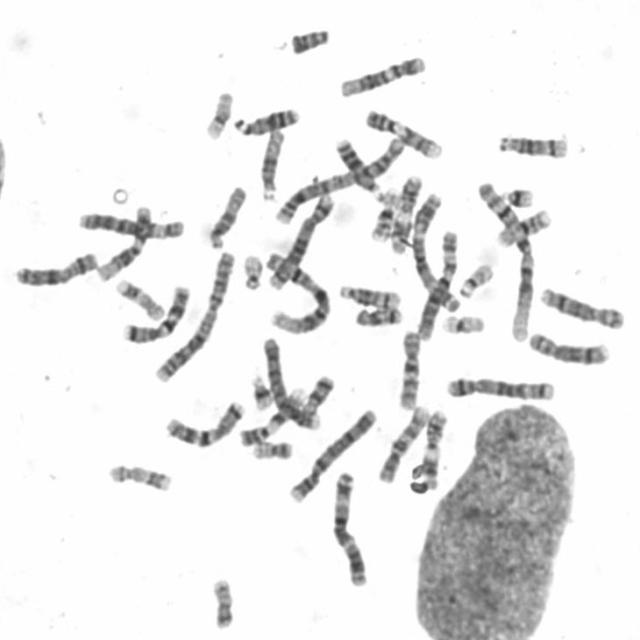A1: (472, 173, 538, 345), (260, 245, 334, 335)
A2: (270, 130, 409, 225), (150, 244, 238, 384)
A3: (408, 184, 463, 313), (327, 464, 372, 589)
B4: (284, 400, 381, 504), (258, 330, 324, 432)
B5: (263, 186, 338, 292), (441, 370, 558, 402)
C10: (374, 399, 433, 485), (393, 322, 425, 412)
C11: (387, 168, 425, 254), (416, 403, 450, 488)
C12: (91, 199, 154, 283), (335, 48, 429, 98)
C6: (413, 225, 461, 342), (74, 206, 188, 240)
C7: (160, 392, 248, 450), (117, 278, 193, 345)
C8: (536, 280, 628, 331), (523, 325, 613, 367)
C9: (234, 380, 308, 448), (360, 102, 446, 160)
D13: (331, 132, 385, 195), (229, 100, 302, 138)
D14: (493, 126, 572, 159), (334, 278, 404, 310)
D15: (203, 178, 249, 250), (255, 122, 288, 202)
E16: (492, 202, 555, 248), (366, 186, 400, 243)
E17: (110, 272, 168, 322), (104, 456, 176, 494)
E18: (298, 368, 337, 417), (351, 299, 406, 329)
F19: (200, 84, 237, 141), (437, 307, 488, 336)
F20: (206, 570, 238, 631), (248, 434, 296, 461)
G21: (247, 368, 276, 412), (498, 181, 537, 208)
G22: (454, 256, 497, 299), (238, 247, 266, 291)
X: (9, 245, 101, 289)
Y: (286, 21, 332, 55)
